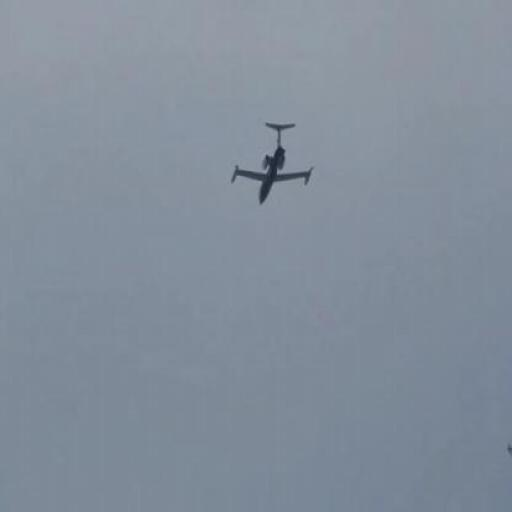aircraft: (231, 122, 314, 205)
